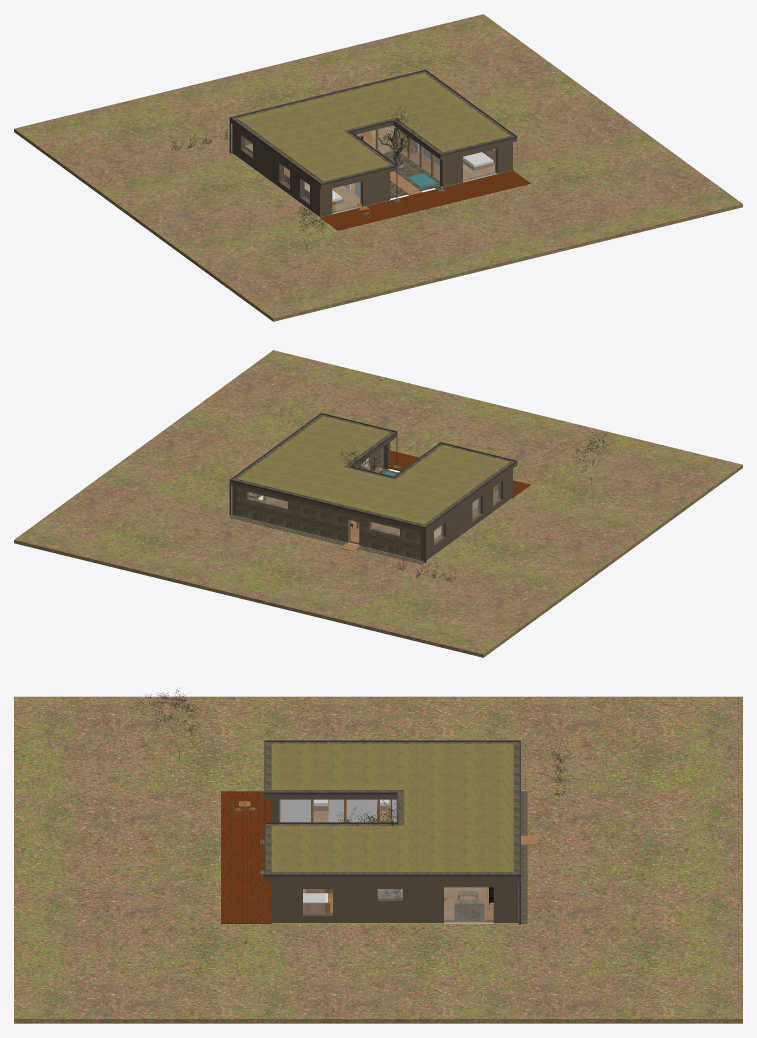
The model's file is priroda1.glb.
The picture shows the model from 3 angles, top to bottom: view 1: azimuth 30°, elevation 25°; view 2: azimuth 150°, elevation 25°; view 3: azimuth 270°, elevation 25°; orthographic projection. The views are drawn at different scales.
Visible parts, largest first — view 1: Ext, Shell, Glass; view 2: Ext, Shell, Glass; view 3: Ext, Shell, Glass.
Boxes of the visible parts, bbox=[...] form: Ext: bbox=[14, 14, 742, 321]; Shell: bbox=[229, 69, 517, 217]; Glass: bbox=[246, 126, 495, 211]; Ext: bbox=[14, 350, 742, 657]; Shell: bbox=[229, 413, 517, 564]; Glass: bbox=[248, 448, 500, 542]; Ext: bbox=[14, 690, 742, 1023]; Shell: bbox=[260, 740, 527, 924]; Glass: bbox=[280, 800, 485, 921].
Size of the model in its own units: 46 by 5.58 by 44.
33 materials, 33 textured.
